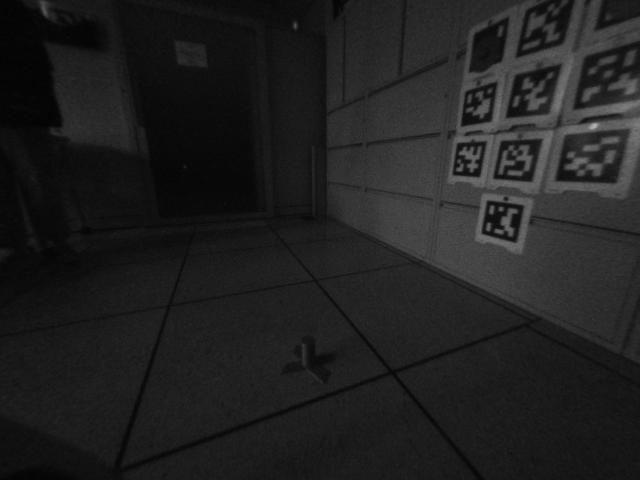x: (281, 334, 340, 389)
